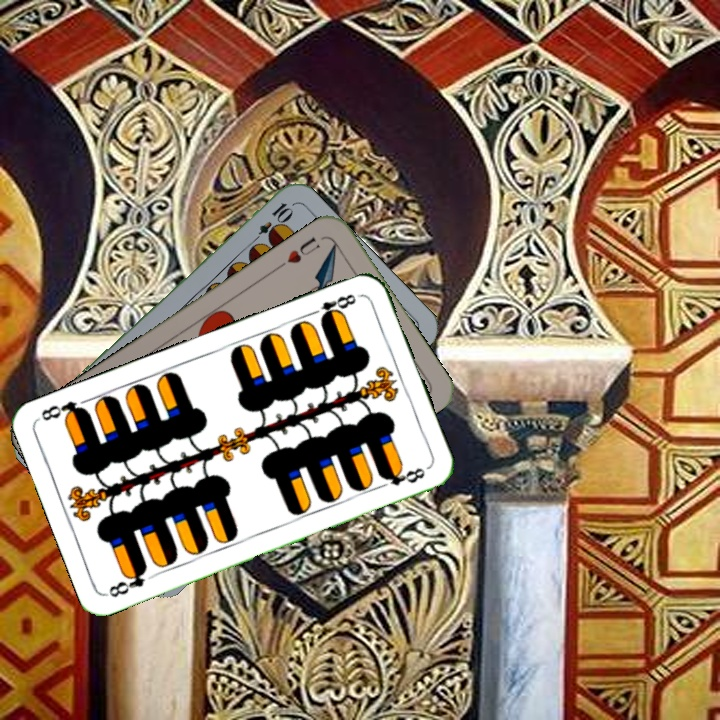E10: (247, 198, 295, 248)
E8: (306, 290, 363, 324), (103, 563, 150, 600)
HU: (274, 233, 323, 271)
